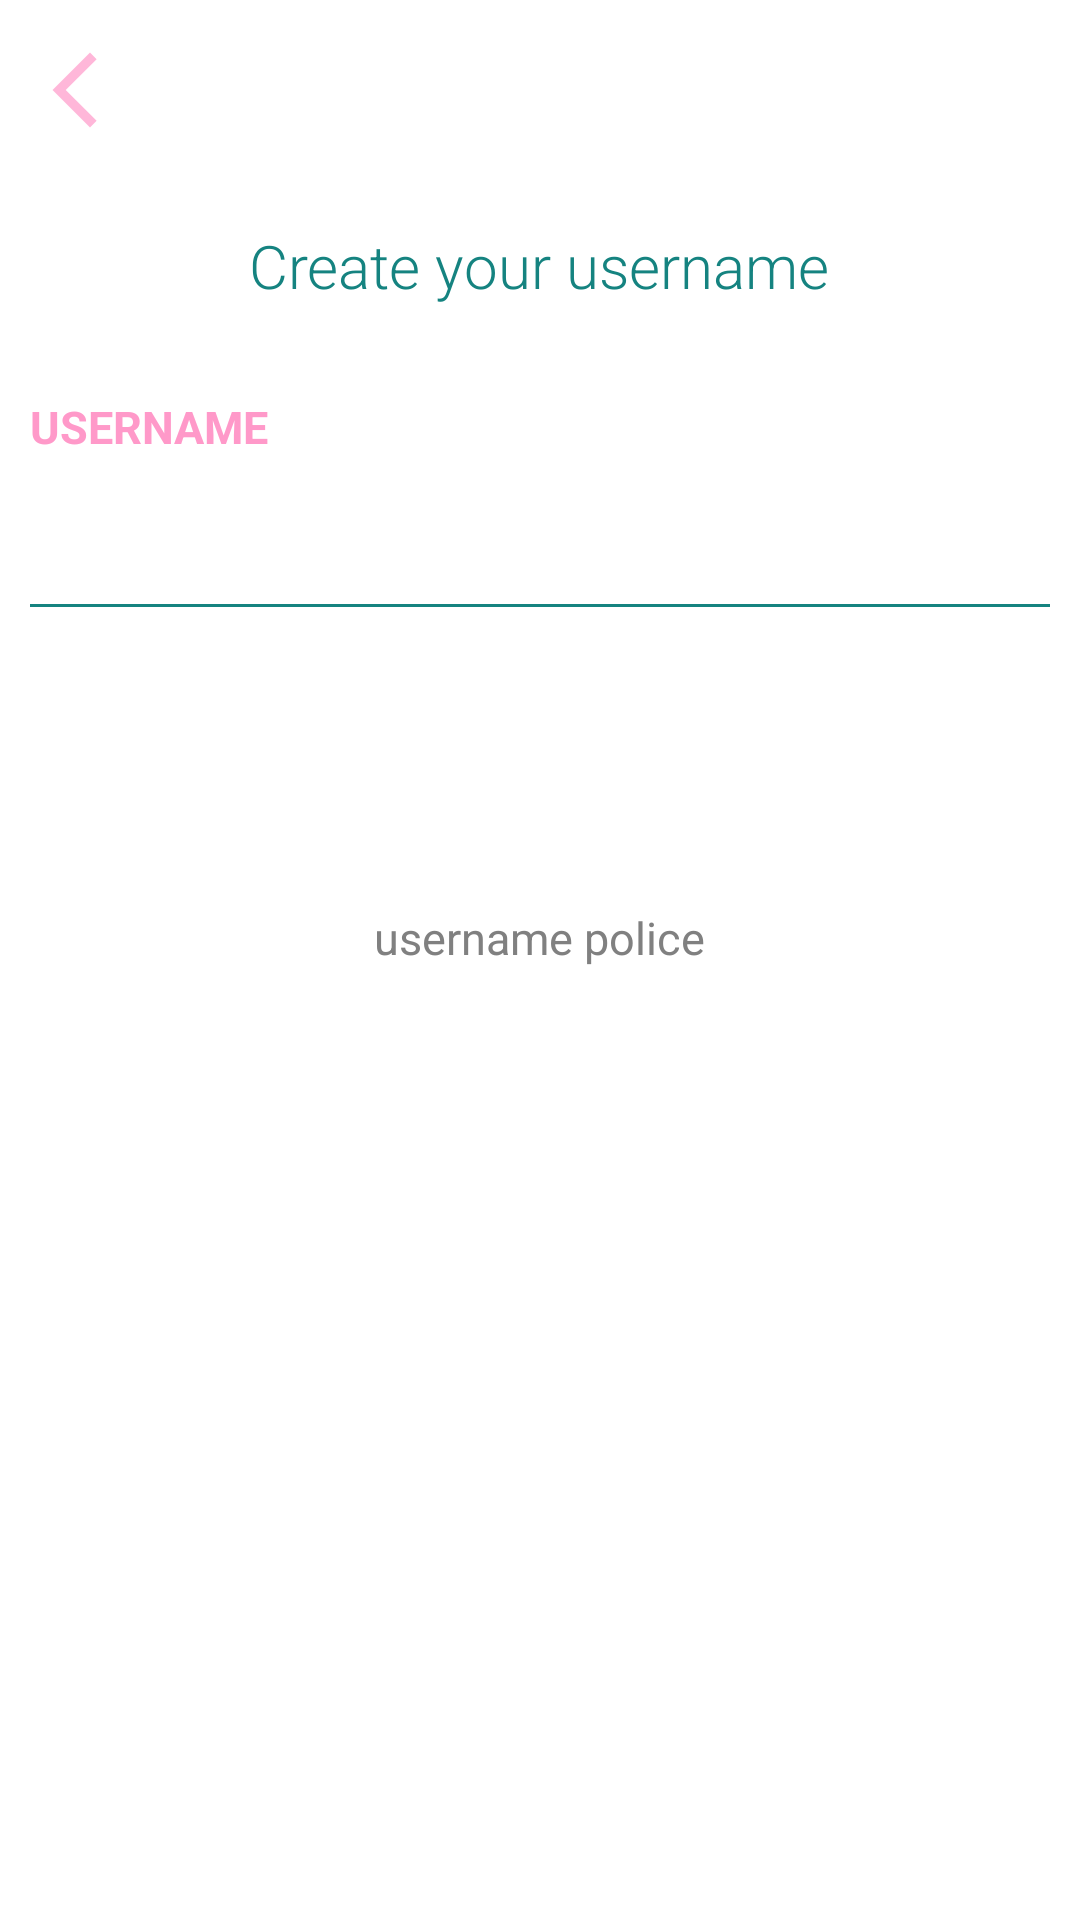

Screen size 1080 x 1920. Icon name, then its box in pixels as (x1, y1, x2, y2):
back: (53, 53, 96, 127)
